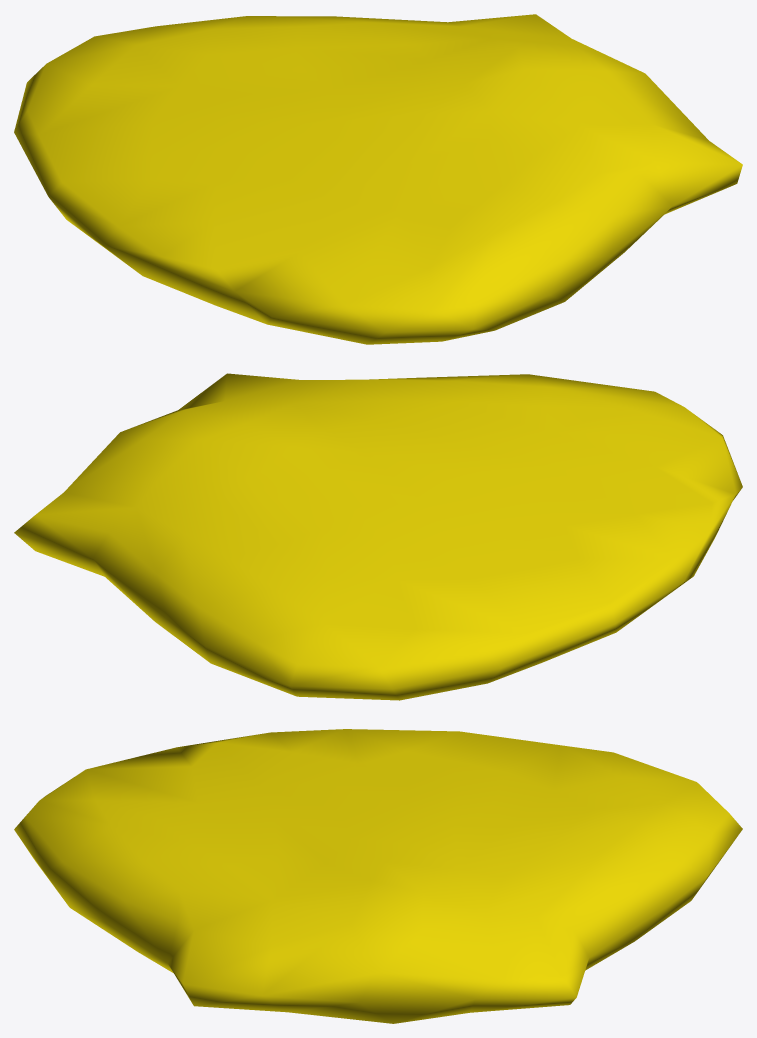
Rendered from Shell_01.fbx.
The picture shows the model from 3 angles, top to bottom: view 1: azimuth 30°, elevation 25°; view 2: azimuth 150°, elevation 25°; view 3: azimuth 270°, elevation 25°; orthographic projection. The views are drawn at different scales.
Visible parts, largest first — view 1: Shell_01; view 2: Shell_01; view 3: Shell_01.
Part boxes in pixels (x1,y1,x2,y2): Shell_01: (14,14,742,344); Shell_01: (14,373,742,700); Shell_01: (14,729,742,1023).
Size of the model in its own units: 115 by 23.82 by 135.
